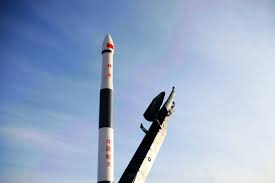ten_lua: (89, 28, 128, 183)
